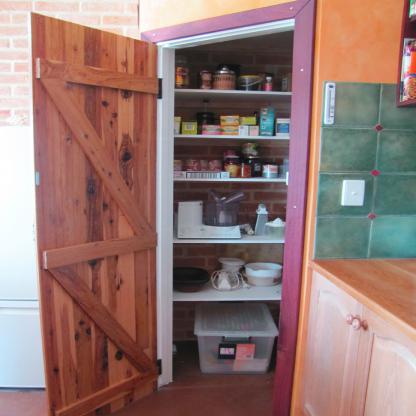door: (25, 8, 177, 415)
hinged: (156, 76, 168, 101), (154, 356, 166, 378)
